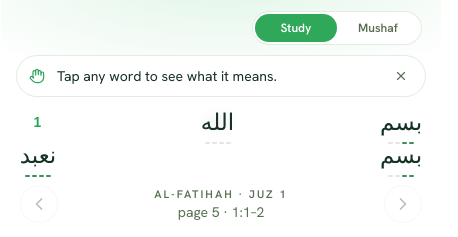
it: Reader › Study: tapping a word reveals its meaning nearby, demotes (Engine B), and updates ticks for every occurrence of that form
Step 1. Click the 1st button "بسم" → coordinates (401, 122), box [377, 108, 425, 137]
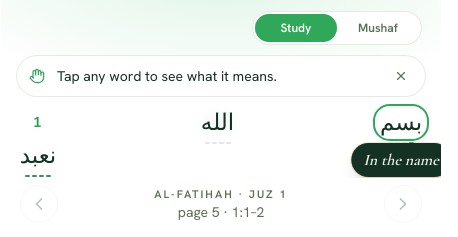
Check: the text with test id "word-meaning" reads "In the name", box [363, 150, 439, 170]
